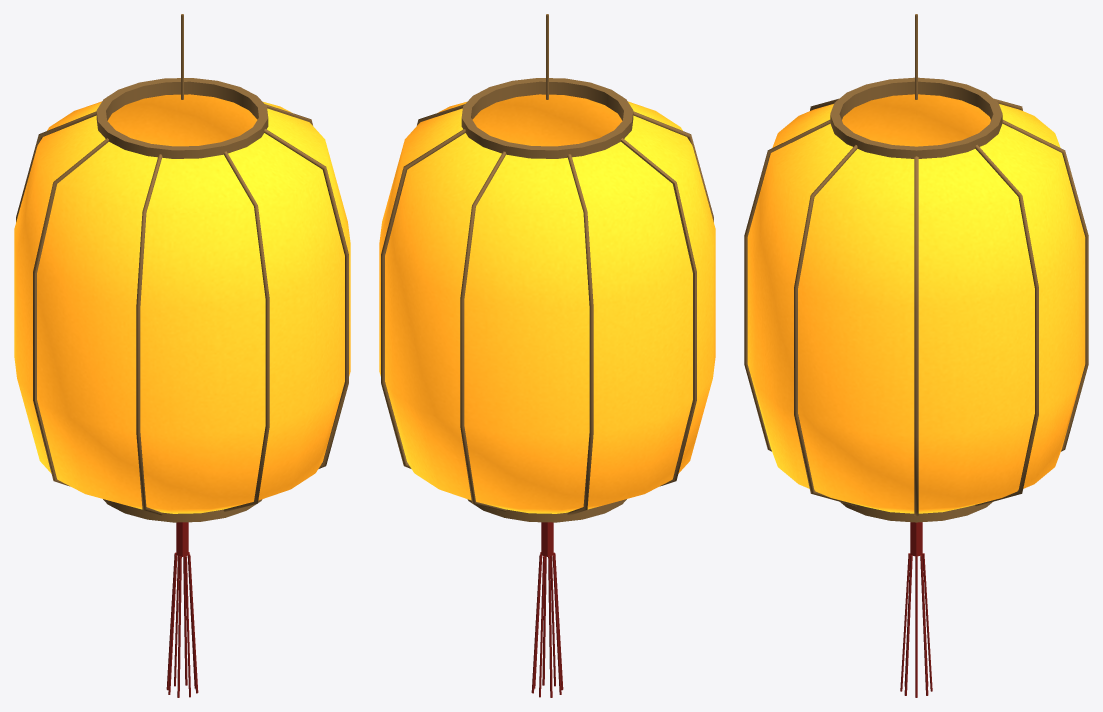
Rendered from den_long_02.glb.
The picture shows the model from 3 angles, left to right: view 1: azimuth 30°, elevation 25°; view 2: azimuth 150°, elevation 25°; view 3: azimuth 270°, elevation 25°; orthographic projection.
Parts seen in each view (by area): view 1: bamboo_rib_0; view 2: bamboo_rib_0; view 3: bamboo_rib_0.
Boxes of the visible parts, x1,y1,x2,y2 form: bamboo_rib_0: (14,14,350,697); bamboo_rib_0: (379,14,715,697); bamboo_rib_0: (744,14,1088,697).
Bounding box in the file's own units: 0.296 × 0.6401 × 0.2955.
2 materials, 1 textured.
